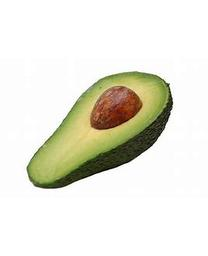avocado: (26, 71, 175, 190)
